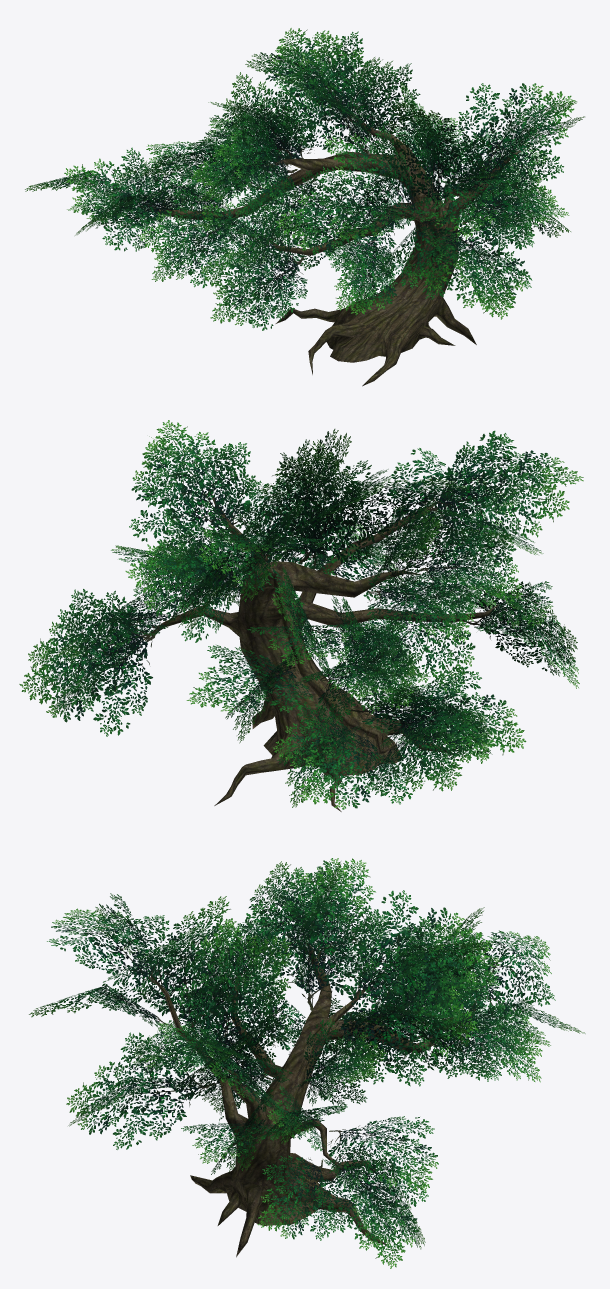
The model's file is cmc_shu09.FBX.
The picture shows the model from 3 angles, top to bottom: view 1: azimuth 30°, elevation 25°; view 2: azimuth 150°, elevation 25°; view 3: azimuth 270°, elevation 25°; orthographic projection. The views are drawn at different scales.
Parts seen in each view (by area): view 1: cmc_shuye_a003, cmc_shugan_a003; view 2: cmc_shuye_a003, cmc_shugan_a003; view 3: cmc_shuye_a003, cmc_shugan_a003.
Part boxes in pixels (x1,y1,x2,y2): cmc_shuye_a003: (25, 28, 584, 330); cmc_shugan_a003: (148, 111, 524, 386); cmc_shuye_a003: (19, 420, 583, 809); cmc_shugan_a003: (141, 486, 498, 811); cmc_shuye_a003: (29, 858, 585, 1268); cmc_shugan_a003: (149, 943, 477, 1257).
Bounding box in the file's own units: 2228 × 1475 × 2197.
